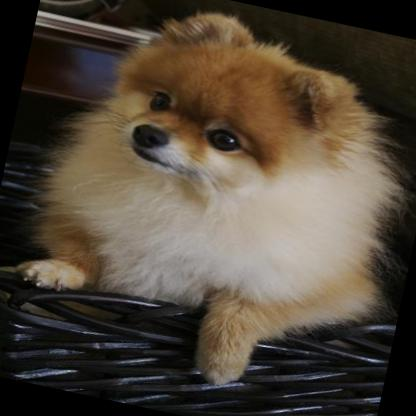Pomeranian: (0, 0, 416, 411)
